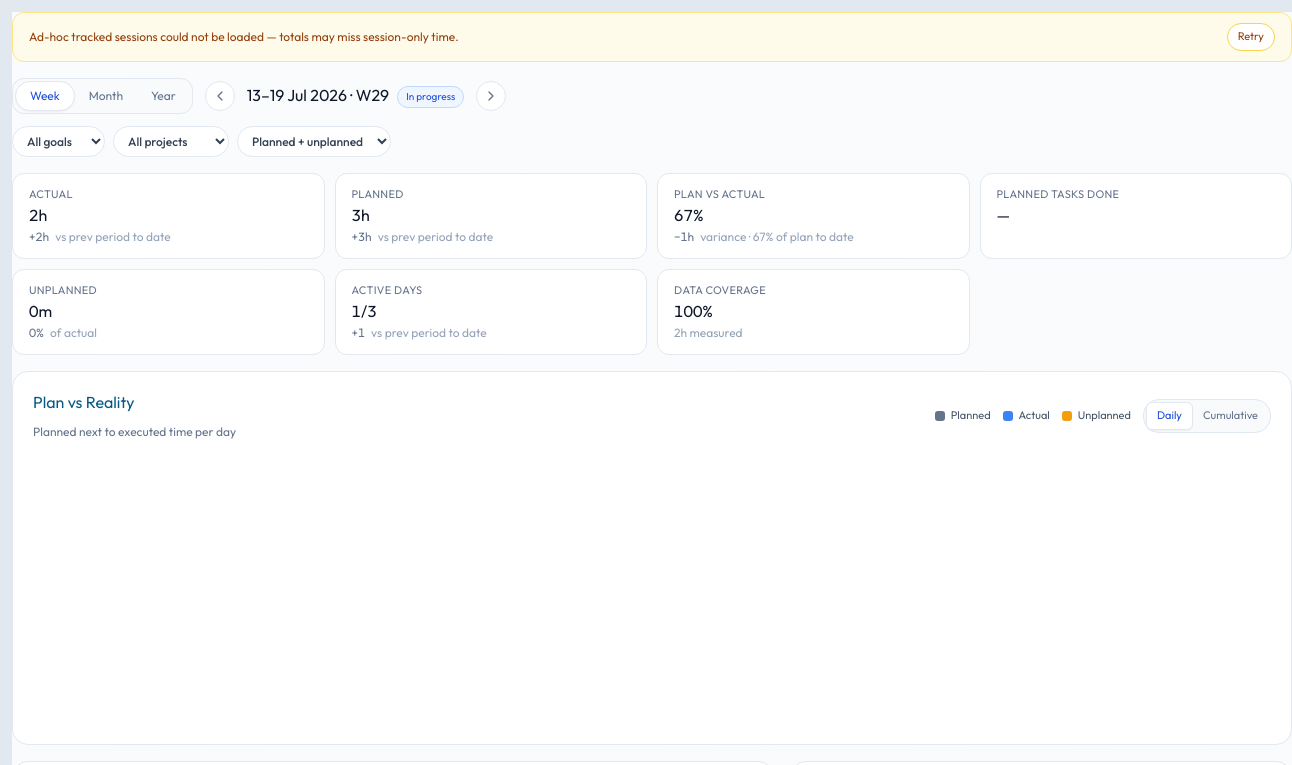
PerformanceDashboard › degrades gracefully when sessions fail to load, with a retry
Expected: the text "sessions could not be loaded" is shown, top-left (29, 29), bottom-right (459, 44)
Step 1. Click the button "Retry" → (1251, 37), box top-left (1227, 23), bottom-right (1275, 51)
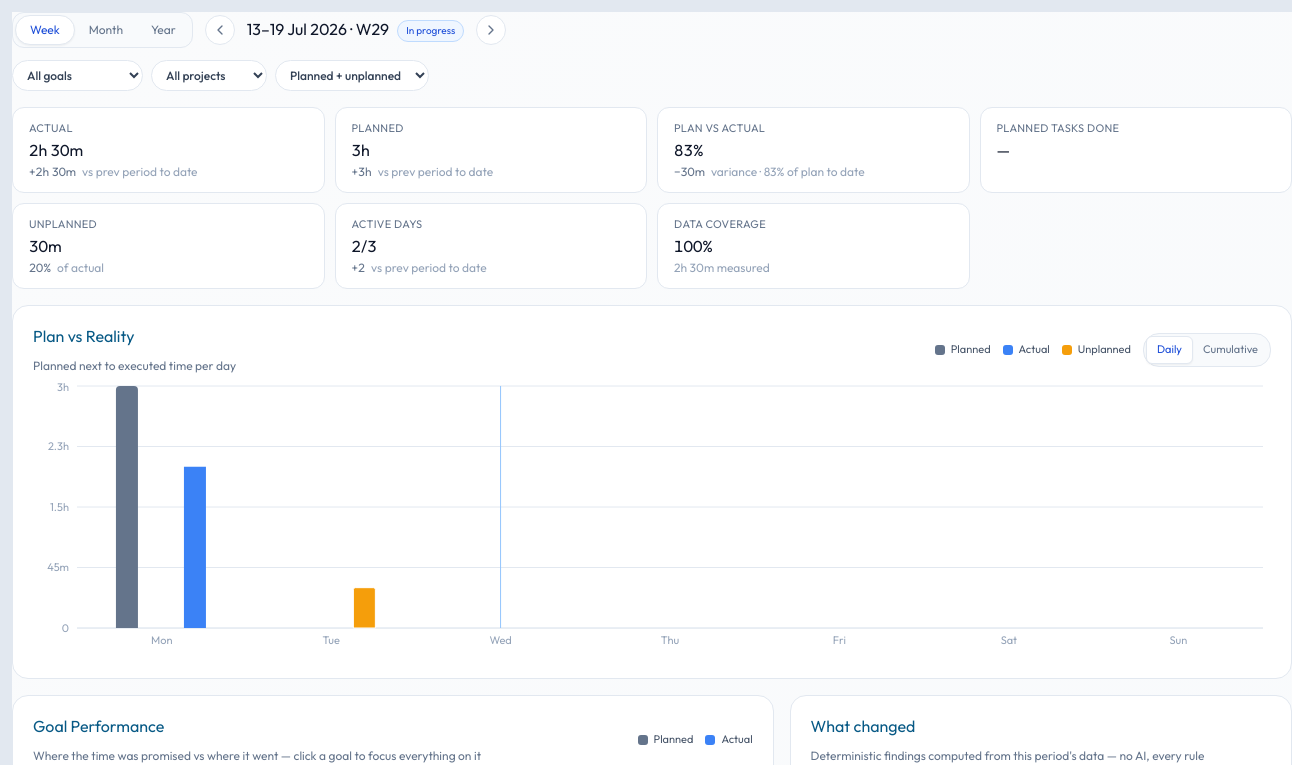
Expected: the text "sessions could not be loaded" is gone
Expected: the text "2h 30m" is shown, top-left (29, 140), bottom-right (83, 160)
